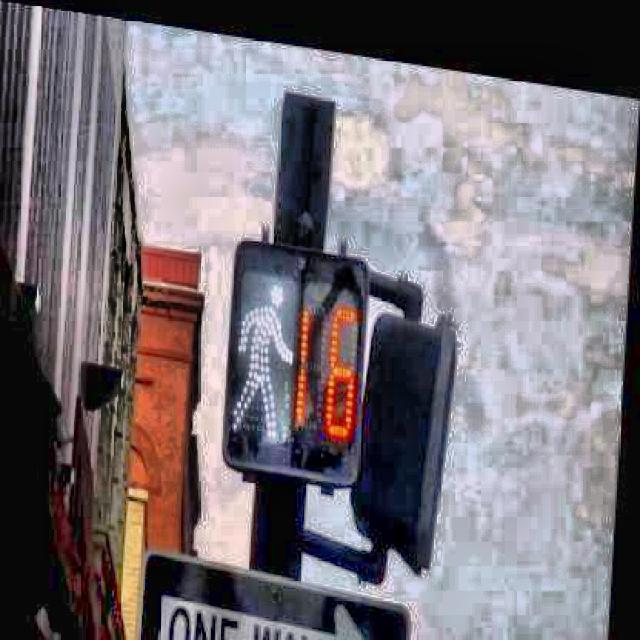semaforo pedestre: (146, 170, 468, 564)
